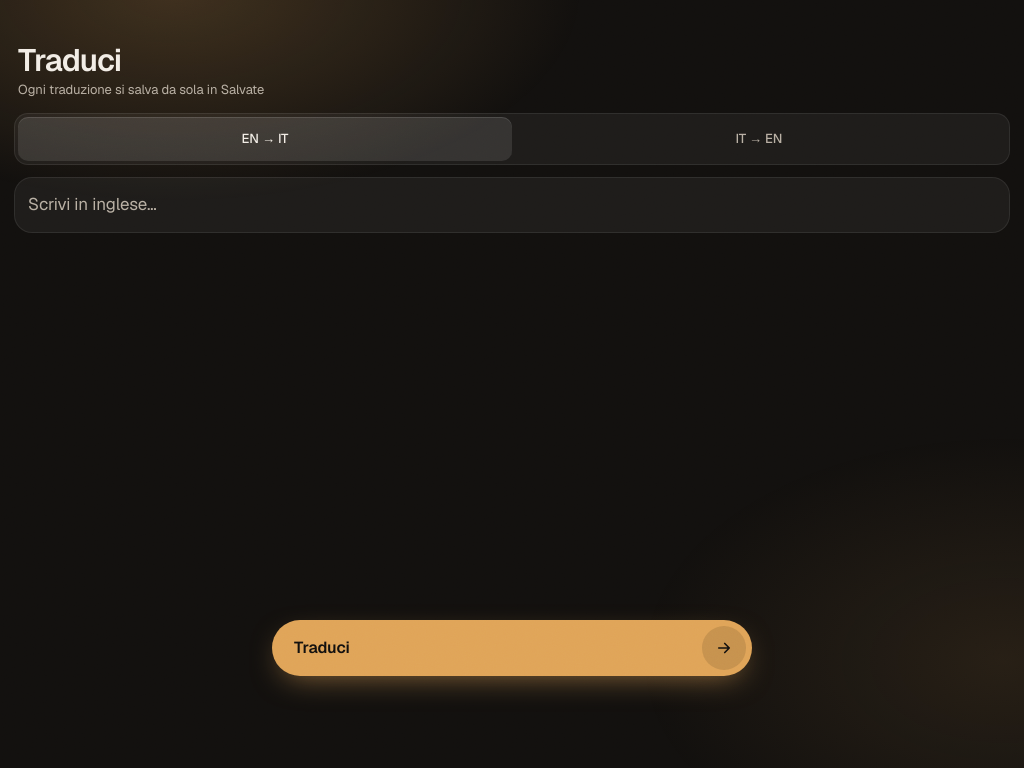
Scenario: Traduci › Annulla unsaves in place, and Salva saves again
The width and height of the screenshot is (1024, 768).
Type "I'd like a coffee" into the field named "Testo da tradurre" at [512, 205], box [14,177,1010,233]
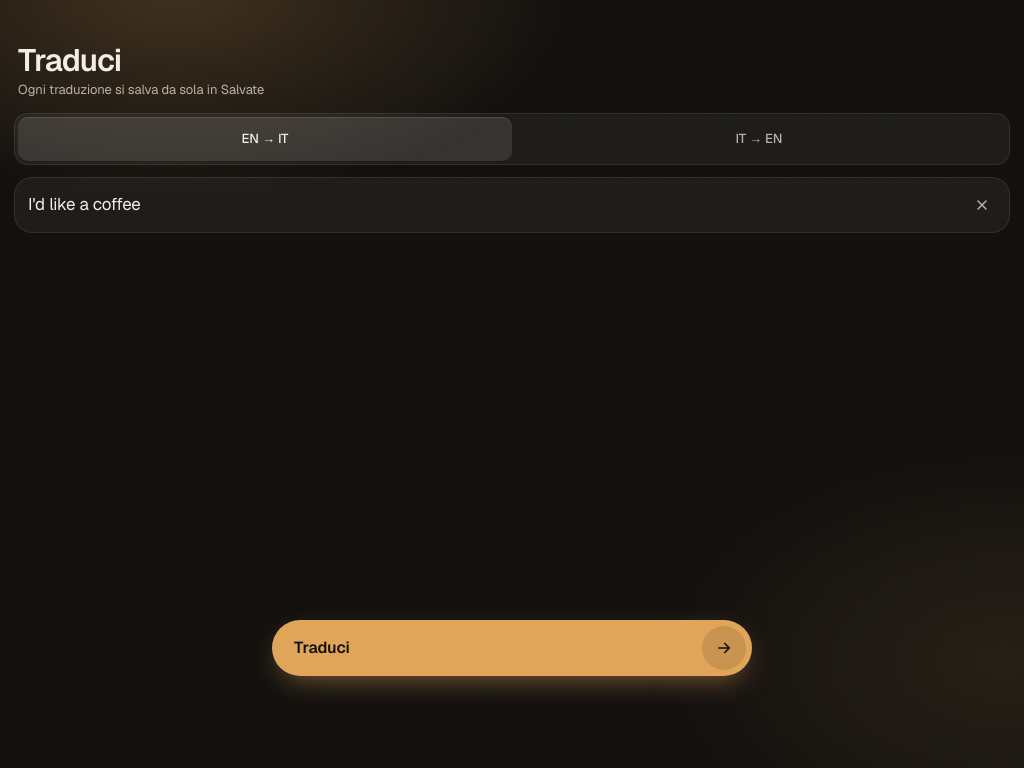
Press Enter in the field named "Testo da tradurre", box [14,177,1010,233]
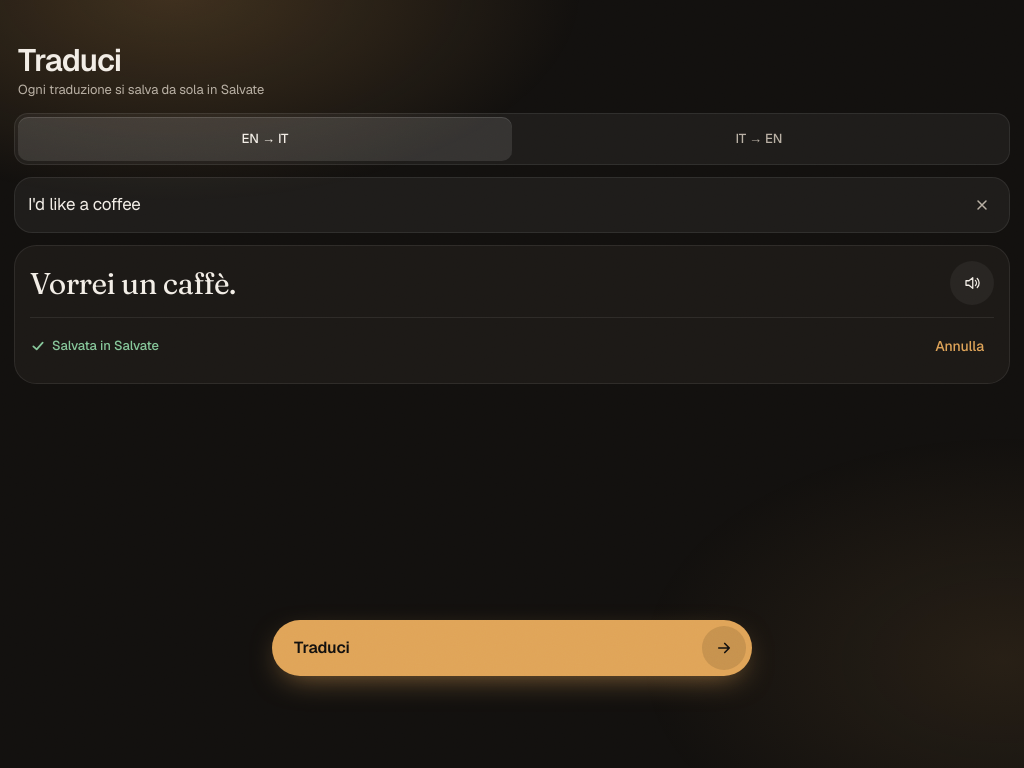
Click the button "Annulla" at [960, 346], box [925,324,994,368]
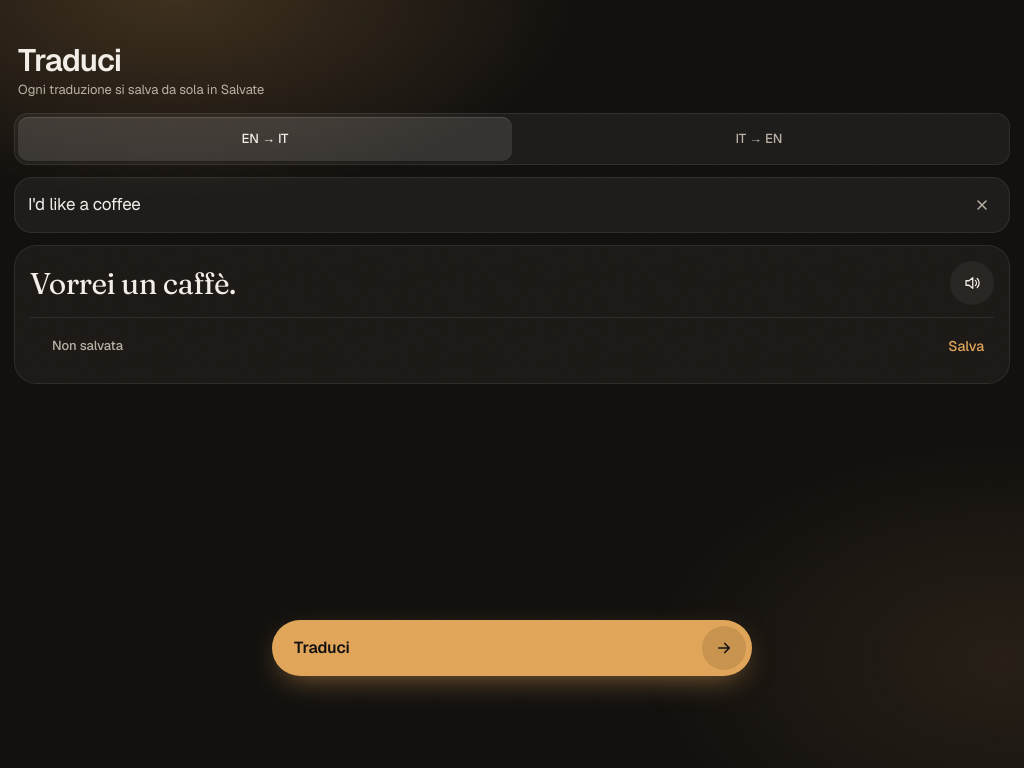
Expected: the element with class "tr-saved" has class "off", [52,337,123,354]
Click the button "Salva" at [966, 346], box [938,324,994,368]
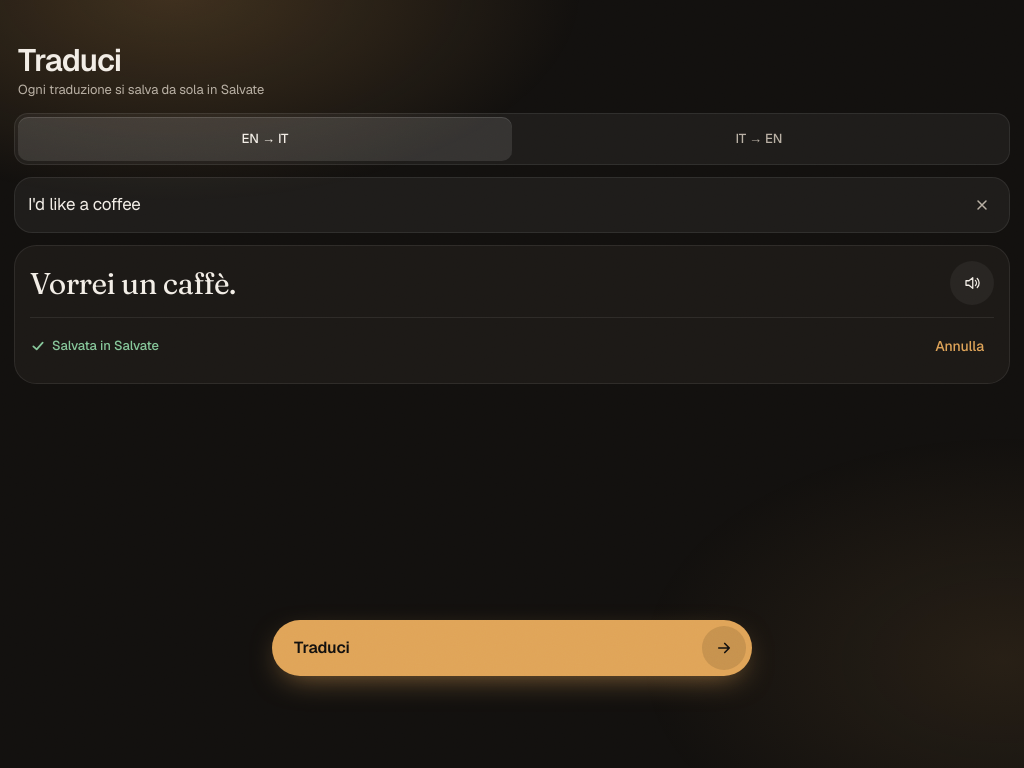
Expected: the element with class "tr-saved" reads "Salvata in Salvate", [52,337,159,354]
